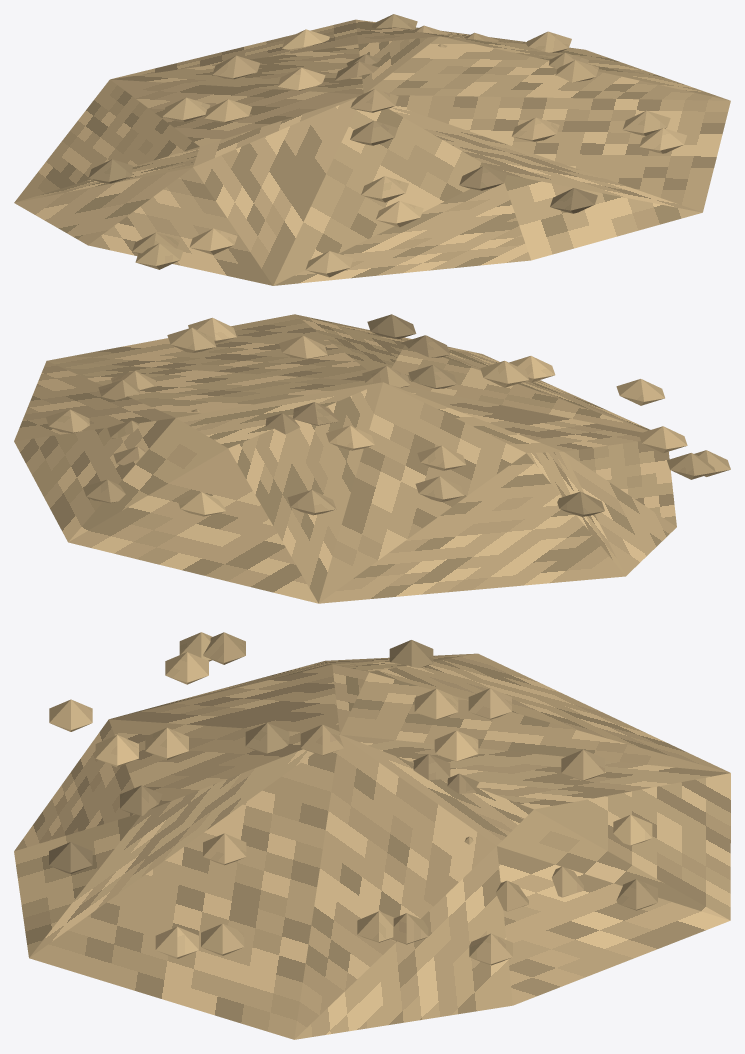
Rendered from oatmeal.glb.
3 renders of one model, top to bottom at view 1: azimuth 30°, elevation 25°; view 2: azimuth 150°, elevation 25°; view 3: azimuth 270°, elevation 25°, orthographic. The views are drawn at different scales.
Parts seen in each view (by area): view 1: block_loose dry ingredients, block_loose grain 11, block_loose grain 13, block_loose grain 17, block_loose grain 7, block_loose grain 18, block_loose grain 20, block_loose grain 0, block_loose grain 27, block_loose grain 9, block_loose grain 21, block_loose grain 24 (+12 smaller); view 2: block_loose dry ingredients, block_loose grain 17, block_loose grain 13, block_loose grain 11, block_loose grain 25, block_loose grain 24, block_loose grain 19, block_loose grain 16, block_loose grain 14, block_loose grain 2, block_loose grain 12, block_loose grain 7 (+12 smaller); view 3: block_loose dry ingredients, block_loose grain 13, block_loose grain 17, block_loose grain 20, block_loose grain 11, block_loose grain 18, block_loose grain 24, block_loose grain 9, block_loose grain 7, block_loose grain 5, block_loose grain 16, block_loose grain 25 (+14 smaller).
Boxes of the visible parts, x1,y1,x2,y2 form: block_loose dry ingredients: [14, 19, 730, 285]; block_loose grain 11: [305, 251, 353, 277]; block_loose grain 13: [189, 228, 237, 254]; block_loose grain 17: [361, 176, 408, 202]; block_loose grain 7: [550, 188, 597, 213]; block_loose grain 18: [639, 128, 686, 153]; block_loose grain 20: [376, 201, 423, 227]; block_loose grain 0: [135, 243, 183, 269]; block_loose grain 27: [350, 121, 397, 145]; block_loose grain 9: [512, 117, 559, 141]; block_loose grain 21: [459, 166, 506, 190]; block_loose grain 24: [622, 110, 670, 135]; block_loose dry ingredients: [14, 314, 676, 603]; block_loose grain 17: [480, 360, 528, 387]; block_loose grain 13: [639, 426, 687, 453]; block_loose grain 11: [616, 379, 664, 405]; block_loose grain 25: [415, 476, 464, 501]; block_loose grain 24: [167, 327, 216, 352]; block_loose grain 19: [287, 490, 336, 515]; block_loose grain 16: [417, 445, 465, 470]; block_loose grain 14: [667, 453, 715, 479]; block_loose grain 2: [326, 425, 374, 450]; block_loose grain 12: [557, 491, 604, 516]; block_loose grain 7: [367, 314, 416, 338]; block_loose dry ingredients: [14, 653, 730, 1039]; block_loose grain 13: [165, 652, 208, 684]; block_loose grain 17: [145, 727, 188, 760]; block_loose grain 20: [95, 735, 138, 767]; block_loose grain 11: [49, 699, 92, 731]; block_loose grain 18: [155, 926, 198, 958]; block_loose grain 24: [201, 923, 244, 955]; block_loose grain 9: [203, 833, 246, 865]; block_loose grain 7: [49, 842, 92, 873]; block_loose grain 5: [469, 933, 512, 965]; block_loose grain 16: [414, 688, 458, 719]; block_loose grain 25: [468, 688, 511, 719].
Bounding box in the file's own units: 0.0909 × 0.0119 × 0.0713.
Materials: 1 (1 with a texture image).
